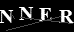E: (38, 7, 53, 22)
N: (18, 6, 33, 22), (1, 9, 13, 24)
R: (58, 9, 73, 25)
